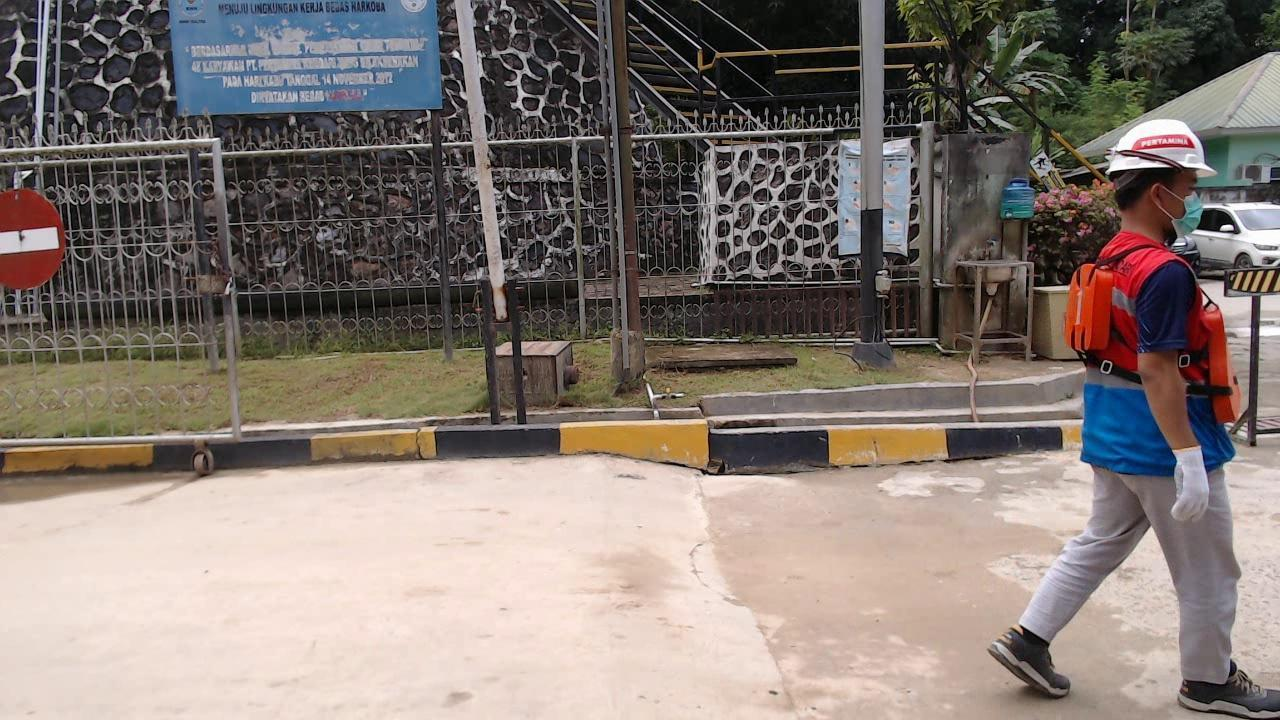vest: (1065, 262, 1245, 430)
